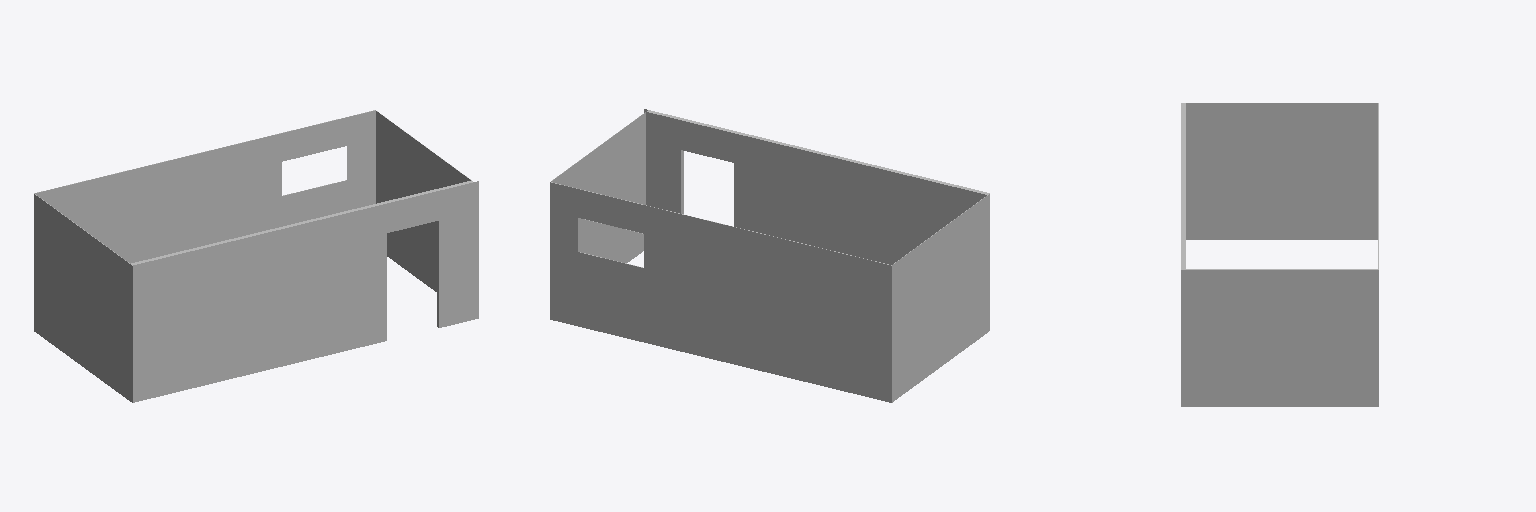
Rendered from house_1stFloorCR_wall.obj.
3 renders of one model, left to right at view 1: azimuth 30°, elevation 25°; view 2: azimuth 150°, elevation 25°; view 3: azimuth 270°, elevation 25°, orthographic.
Visible parts, largest first — view 1: Cube.068_Mesh, Cube.051_Mesh, Cube.100_Mesh, Cube.008_Mesh; view 2: Cube.051_Mesh, Cube.068_Mesh, Cube.100_Mesh, Cube.008_Mesh; view 3: Cube.008_Mesh, Cube.100_Mesh, Cube.068_Mesh.
Boxes of the visible parts, x1=… form: Cube.068_Mesh: x1=130, y1=180, x2=478, y2=402; Cube.051_Mesh: x1=34, y1=110, x2=375, y2=263; Cube.100_Mesh: x1=34, y1=194, x2=129, y2=400; Cube.008_Mesh: x1=376, y1=111, x2=470, y2=291; Cube.051_Mesh: x1=550, y1=182, x2=891, y2=402; Cube.068_Mesh: x1=644, y1=109, x2=989, y2=331; Cube.100_Mesh: x1=892, y1=195, x2=987, y2=402; Cube.008_Mesh: x1=551, y1=112, x2=645, y2=262; Cube.008_Mesh: x1=1186, y1=269, x2=1377, y2=406; Cube.100_Mesh: x1=1186, y1=103, x2=1377, y2=239; Cube.068_Mesh: x1=1181, y1=103, x2=1185, y2=406.
Bounding box in the file's own units: 15.81 × 6 × 7.82.